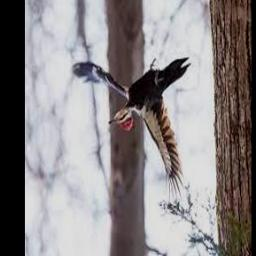Woodpecker: (72, 58, 190, 200)
